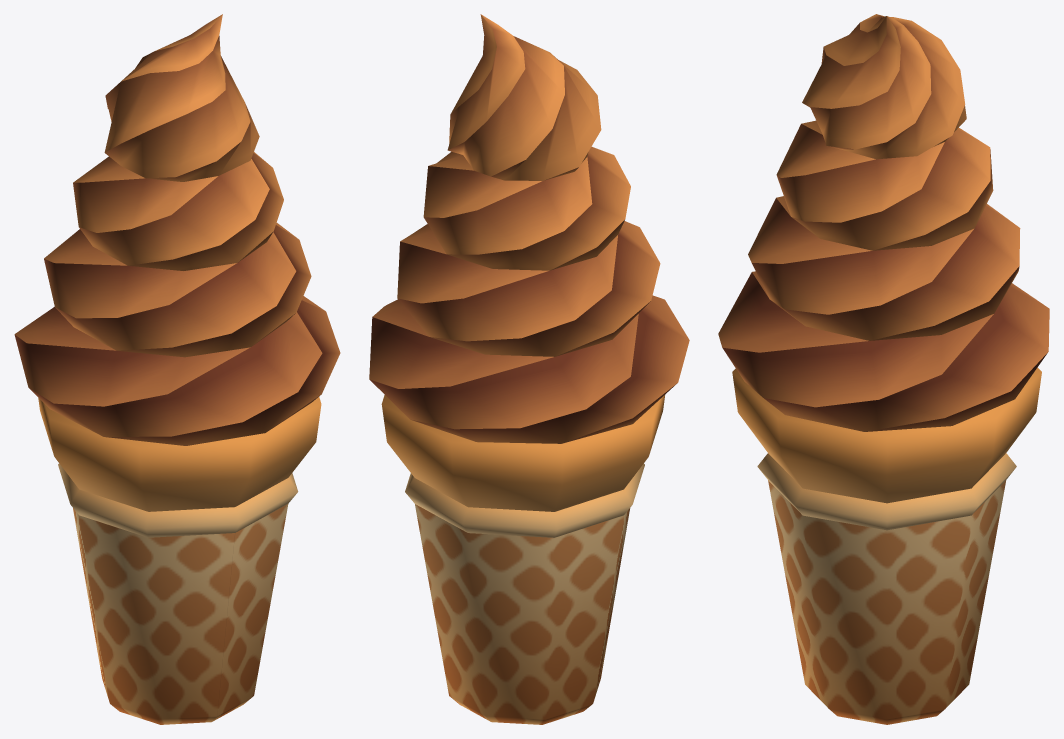
The model's file is m_Softserve05.fbx.
The picture shows the model from 3 angles, left to right: view 1: azimuth 30°, elevation 25°; view 2: azimuth 150°, elevation 25°; view 3: azimuth 270°, elevation 25°; orthographic projection. The views are drawn at different scales.
Parts seen in each view (by area): view 1: m_Softserve05; view 2: m_Softserve05; view 3: m_Softserve05.
Boxes of the visible parts, x1,y1,x2,y2 form: m_Softserve05: (14,14,340,724); m_Softserve05: (369,14,689,724); m_Softserve05: (718,14,1049,724).
Bounding box in the file's own units: 11.45 × 26 × 11.13.
